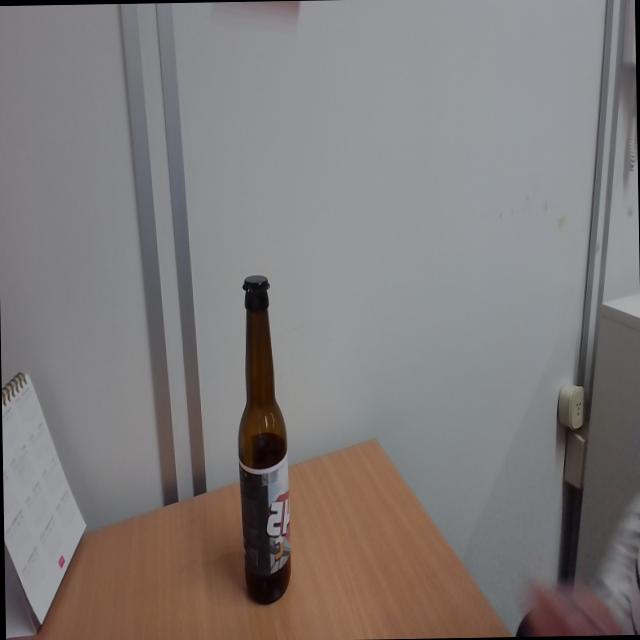Bottle: (233, 273, 290, 604)
Cap: (240, 274, 271, 298)
Label: (239, 453, 290, 575)
